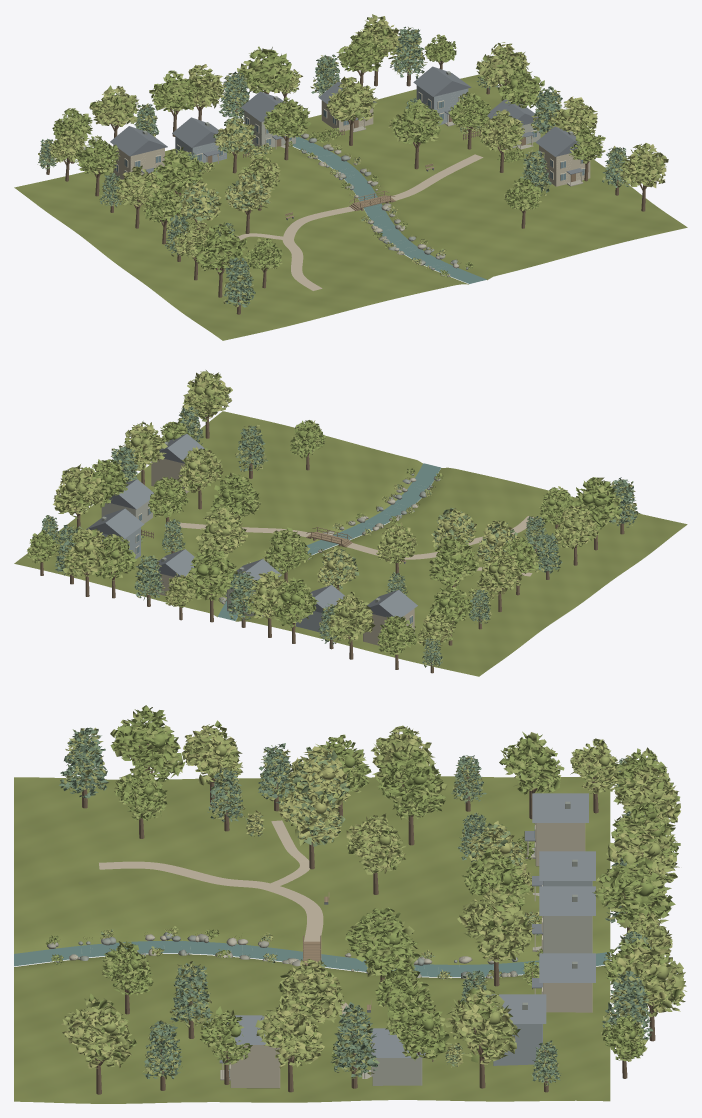
Rendered from Park_Study_v03.fbx.
The picture shows the model from 3 angles, top to bottom: view 1: azimuth 30°, elevation 25°; view 2: azimuth 150°, elevation 25°; view 3: azimuth 270°, elevation 25°; orthographic projection. The views are drawn at different scales.
Parts seen in each view (by area): view 1: V03_Lawn_Left, V03_Lawn_Right, V03_Creek_Surface, Canopy_036, Canopy_021, Canopy_015, Canopy_007, Canopy_043, Canopy_003, Canopy_031, Canopy_049, Canopy_033 (+45 smaller); view 2: V03_Lawn_Left, V03_Lawn_Right, V03_Creek_Surface, Canopy_036, Canopy_049, Canopy_003, Canopy_007, Canopy_031, Canopy_043, Canopy_040, Canopy_021, Canopy_015 (+43 smaller); view 3: V03_Lawn_Left, V03_Lawn_Right, V03_Creek_Surface, Canopy_049, Canopy_007, Canopy_036, Canopy_003, Canopy_021, Canopy_015, Canopy_043, Canopy_046, Canopy_040 (+48 smaller).
Part boxes in pixels (x1,y1,x2,y2): V03_Lawn_Left: [14, 145, 468, 340]; V03_Lawn_Right: [296, 74, 687, 280]; V03_Creek_Surface: [292, 136, 486, 283]; Canopy_036: [237, 46, 293, 93]; Canopy_021: [194, 222, 247, 272]; Canopy_015: [392, 99, 443, 145]; Canopy_007: [326, 76, 377, 121]; Canopy_043: [619, 143, 668, 187]; Canopy_003: [152, 147, 204, 193]; Canopy_031: [89, 85, 139, 126]; Canopy_049: [476, 42, 529, 87]; Canopy_033: [149, 70, 199, 114]; V03_Lawn_Left: [235, 467, 687, 676]; V03_Lawn_Right: [14, 411, 422, 617]; V03_Creek_Surface: [217, 463, 440, 620]; Canopy_036: [185, 546, 238, 600]; Canopy_049: [53, 464, 104, 518]; Canopy_003: [428, 536, 479, 586]; Canopy_007: [196, 507, 247, 557]; Canopy_031: [328, 591, 375, 643]; Canopy_043: [182, 370, 232, 421]; Canopy_040: [62, 527, 111, 578]; Canopy_021: [572, 477, 622, 530]; Canopy_015: [210, 472, 261, 521]; V03_Lawn_Left: [14, 776, 610, 964]; V03_Lawn_Right: [14, 954, 610, 1103]; V03_Creek_Surface: [14, 941, 610, 977]; Canopy_049: [444, 986, 520, 1064]; Canopy_007: [457, 887, 534, 962]; Canopy_036: [592, 853, 675, 931]; Canopy_003: [372, 743, 447, 821]; Canopy_021: [110, 705, 185, 781]; Canopy_015: [345, 907, 420, 978]; Canopy_043: [61, 993, 137, 1068]; Canopy_046: [255, 995, 324, 1068]; Canopy_040: [616, 942, 686, 1017].
Bounding box in the file's own units: 10974 × 1702 × 9494.
Materials: 24 (1 with a texture image).
